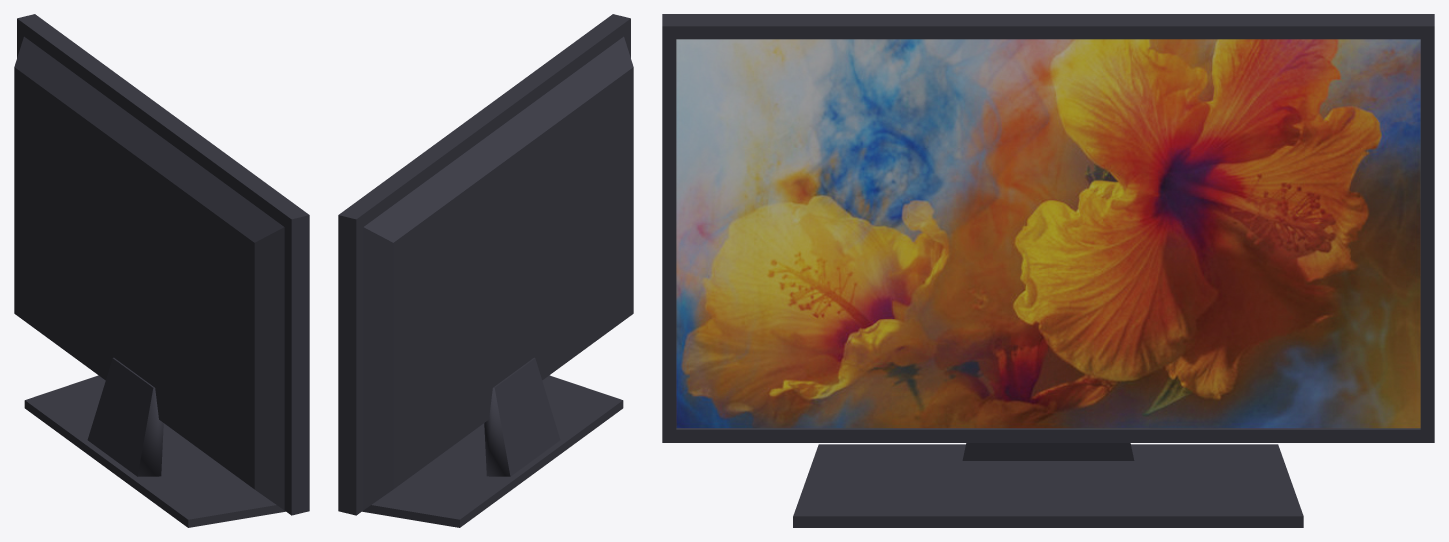
Rendered from 98067439-BB5B-42A7-BAFD-A42CD4834BD0.dae.
3 renders of one model, left to right at view 1: azimuth 30°, elevation 25°; view 2: azimuth 150°, elevation 25°; view 3: azimuth 270°, elevation 25°, orthographic. The views are drawn at different scales.
Parts seen in each view (by area): view 1: TV_40; view 2: TV_40; view 3: TV_40.
Boxes of the visible parts, x1,y1,x2,y2 form: TV_40: (14,14,309,527); TV_40: (338,14,633,527); TV_40: (662,14,1434,527).
Bounding box in the file's own units: 0.1873 × 0.8503 × 0.5766.
Materials: 2 (2 with a texture image).
